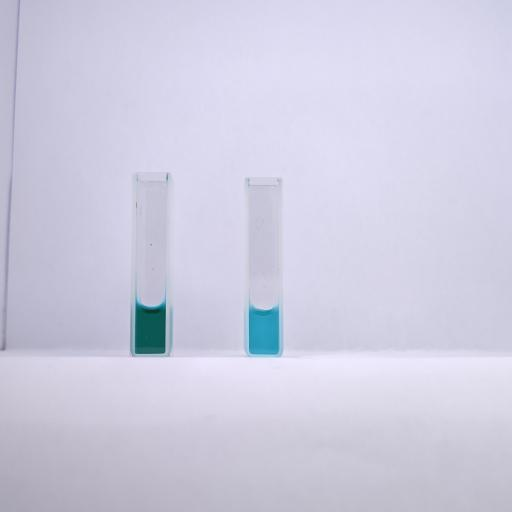cuvette: (128, 170, 173, 360), (242, 174, 286, 359)
liquid: (248, 307, 280, 354), (136, 304, 166, 354)
